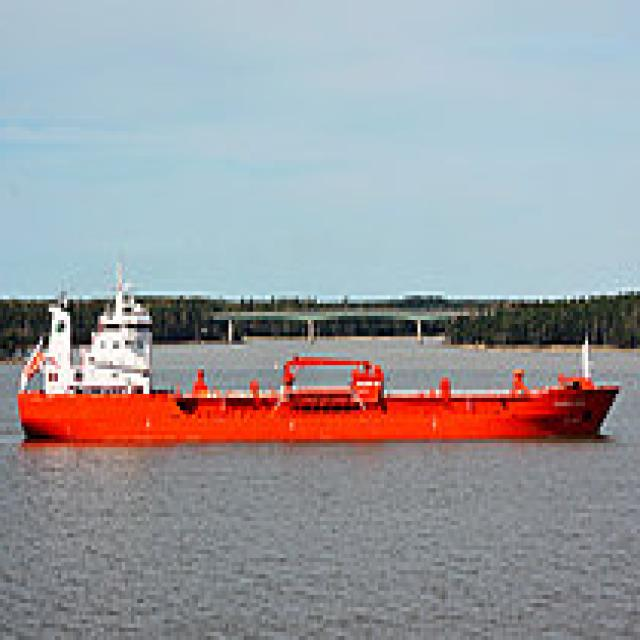Tanker: (15, 254, 628, 435)
